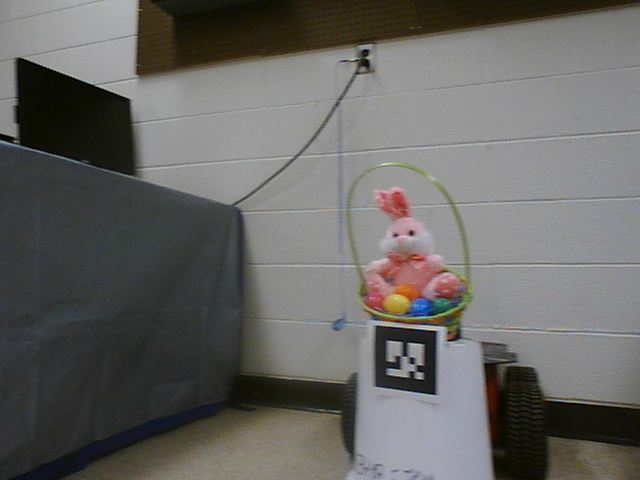bunny: (333, 159, 476, 349)
